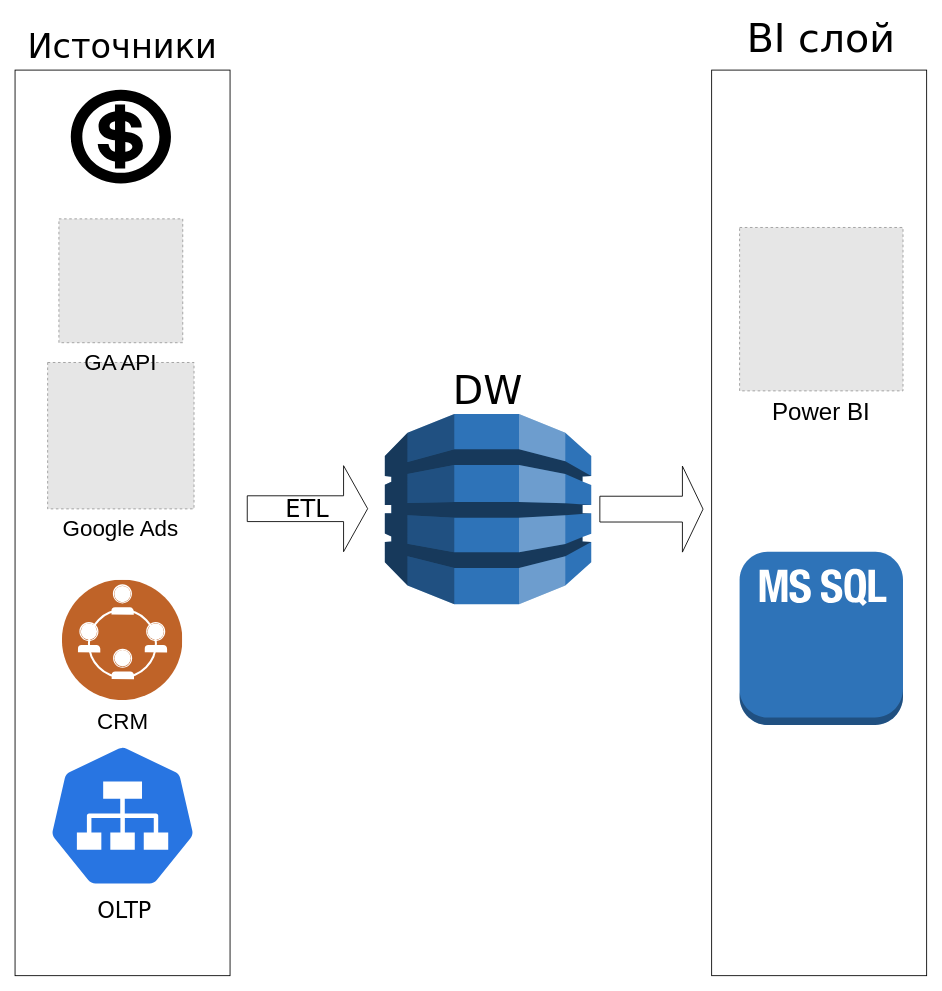
Image size: 942x991. Some labels were removed from this diagram. Grey dashed boxes stand in for pictures. The box of each missing label's shape, as (x1, y1, x2, y2) in pixels:
SQL: (739, 551, 903, 725)
Продажи: (70, 89, 171, 183)
